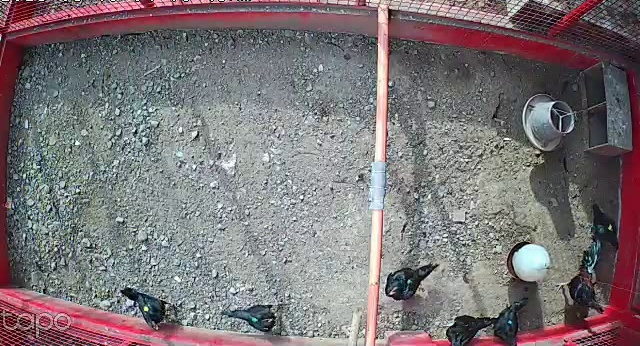Chicken: (119, 284, 177, 334), (382, 256, 441, 303), (218, 304, 288, 335), (441, 309, 499, 346), (493, 295, 533, 346), (586, 203, 621, 250)
Rooster: (550, 238, 606, 315)
Saddle_Color_Blue: (508, 319, 512, 324)
Saddle_Color_Yellow: (143, 304, 151, 314), (609, 224, 613, 230)
